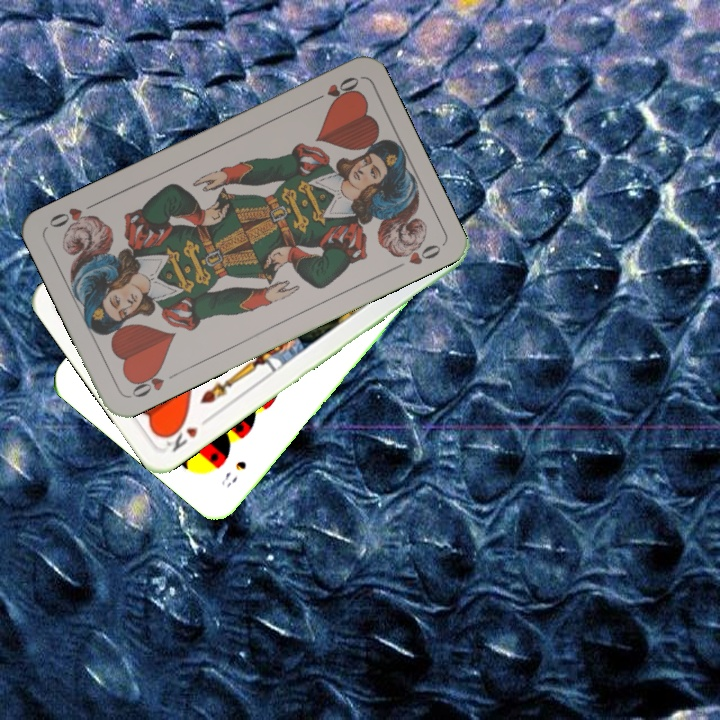HK: (159, 412, 214, 455)
HO: (127, 364, 181, 401), (306, 72, 362, 106)
S8: (216, 456, 249, 490)
